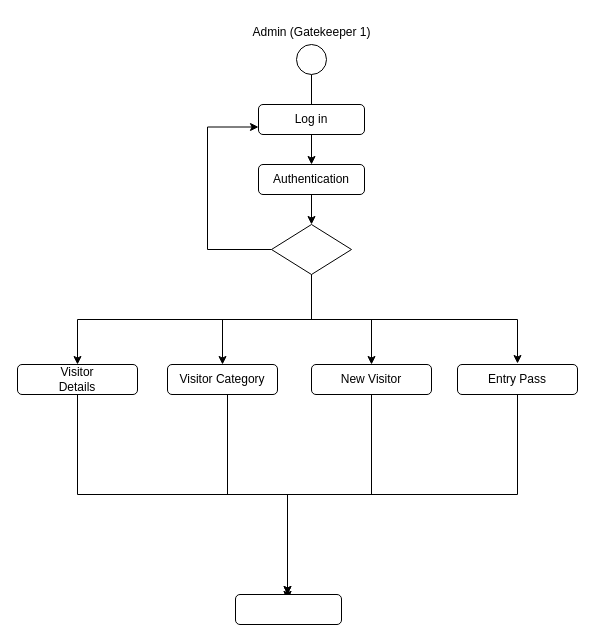
This 595x642 diagram has some shape labels left out. The box of each missing label's shape, as (x1, y1, x2, y2) in pixels:
Log Out: (234, 594, 342, 624)
Verify: (270, 224, 352, 274)
